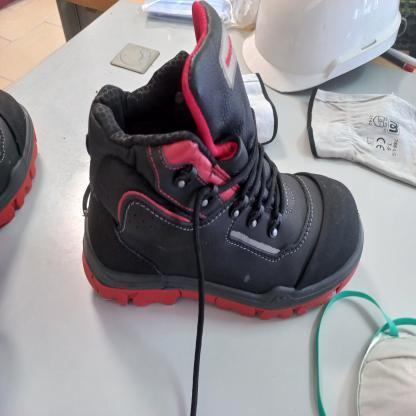boots: (80, 162, 361, 312)
